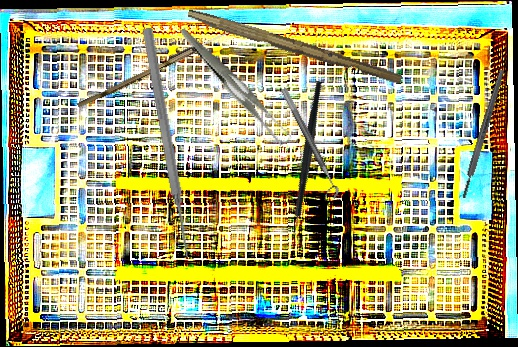Chopper: (242, 79, 377, 246)
Dressing Forceps: (180, 6, 293, 164)
Fixation Ring: (271, 87, 342, 203)
Pusher: (139, 26, 195, 259)
Scalpel Handle: (185, 8, 404, 86), (459, 68, 507, 200)
Surgical Spoon: (76, 23, 239, 112)
